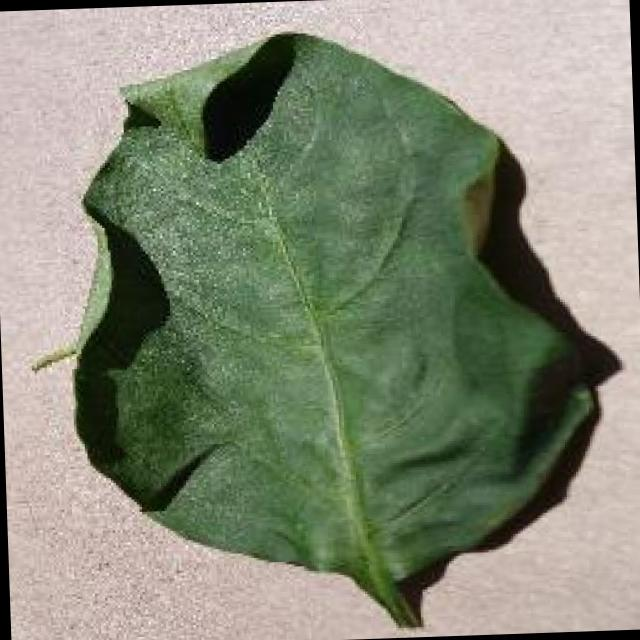Chilli_Healthy: (23, 15, 626, 640)
